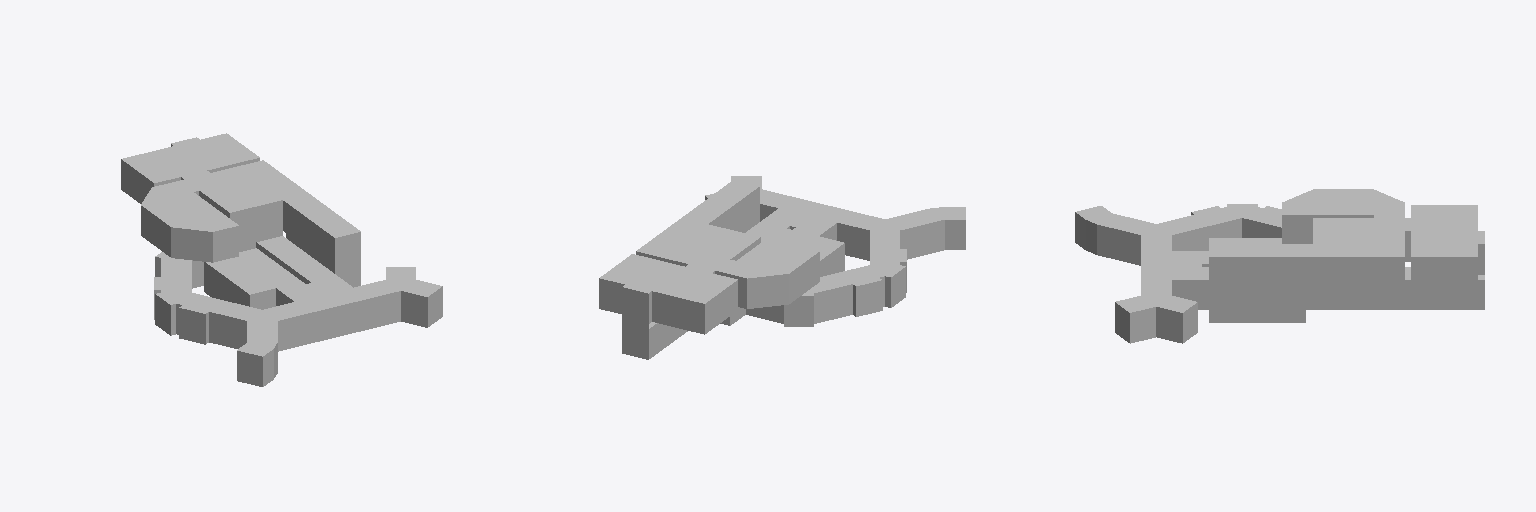
Rendered from interiors_modular_inner.obj.
3 views of the same model, side by side, from view 1: azimuth 30°, elevation 25°; view 2: azimuth 150°, elevation 25°; view 3: azimuth 270°, elevation 25° (orthographic).
Visible parts, largest first — view 1: gp_blueprint_shell_Plane.045; view 2: gp_blueprint_shell_Plane.045; view 3: gp_blueprint_shell_Plane.045.
Part boxes in pixels (x1,y1,x2,y2): gp_blueprint_shell_Plane.045: (121, 133, 442, 386); gp_blueprint_shell_Plane.045: (599, 176, 965, 359); gp_blueprint_shell_Plane.045: (1075, 189, 1484, 343).
Size of the model in its own units: 15.23 by 4.33 by 24.17.